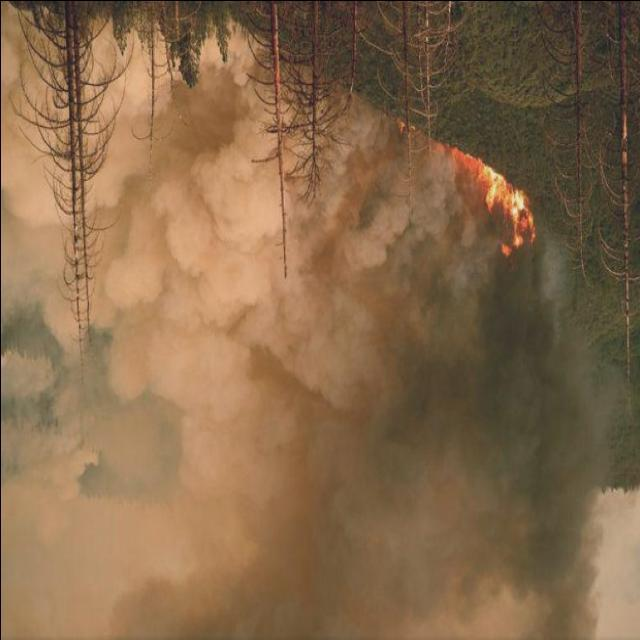Fire: (447, 149, 542, 259)
